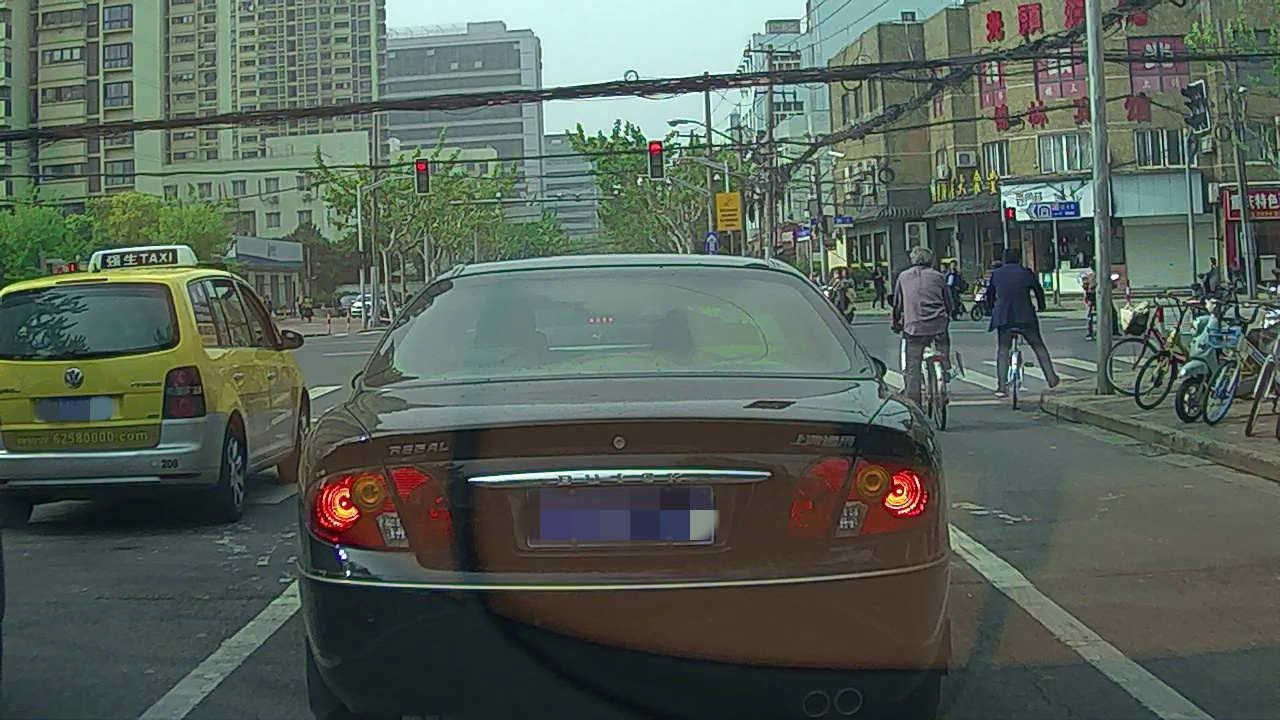traffic_light: (650, 141, 664, 180), (417, 157, 430, 195)
